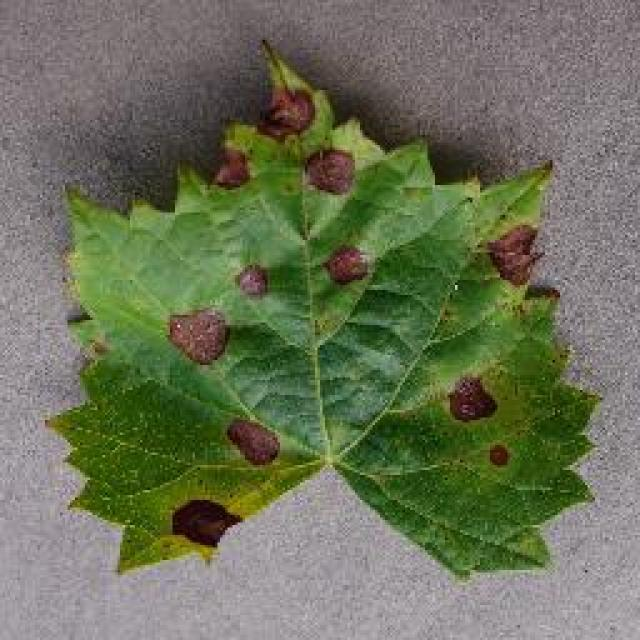Grape___Black_rot: (40, 36, 608, 591)
